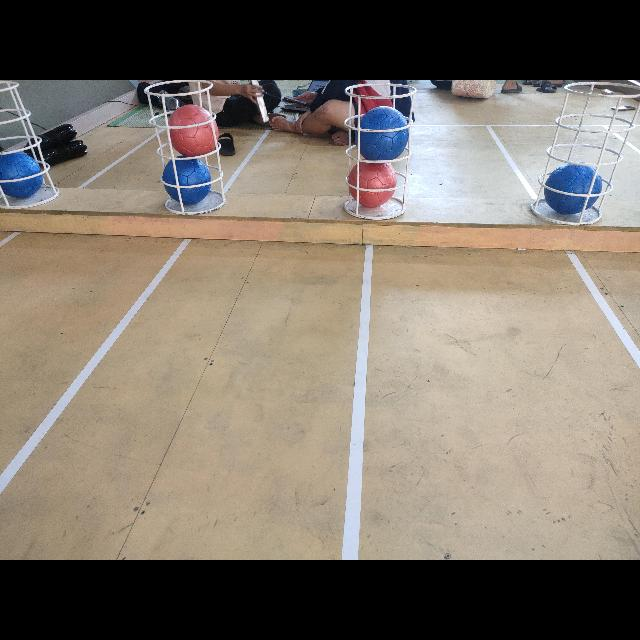B: (543, 160, 603, 213), (356, 106, 409, 162), (162, 156, 212, 202), (1, 150, 44, 198)
R: (168, 104, 218, 160), (349, 158, 397, 208)
